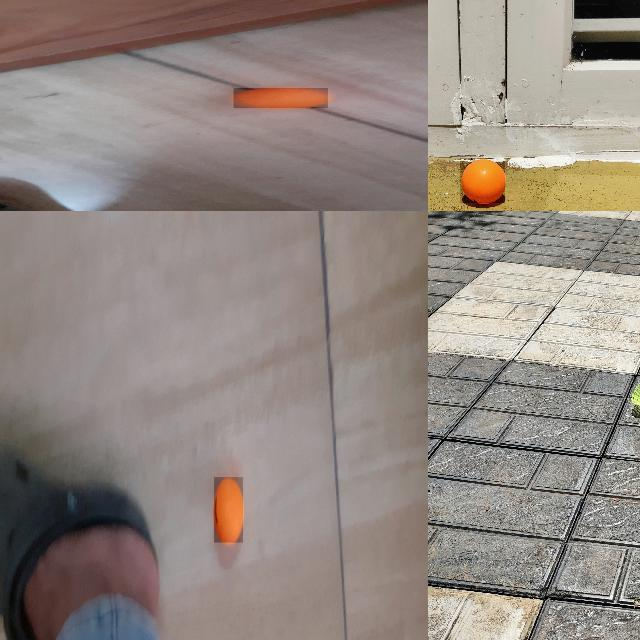ping-pong-ball: (460, 158, 506, 204), (233, 88, 329, 109), (214, 477, 243, 544)
